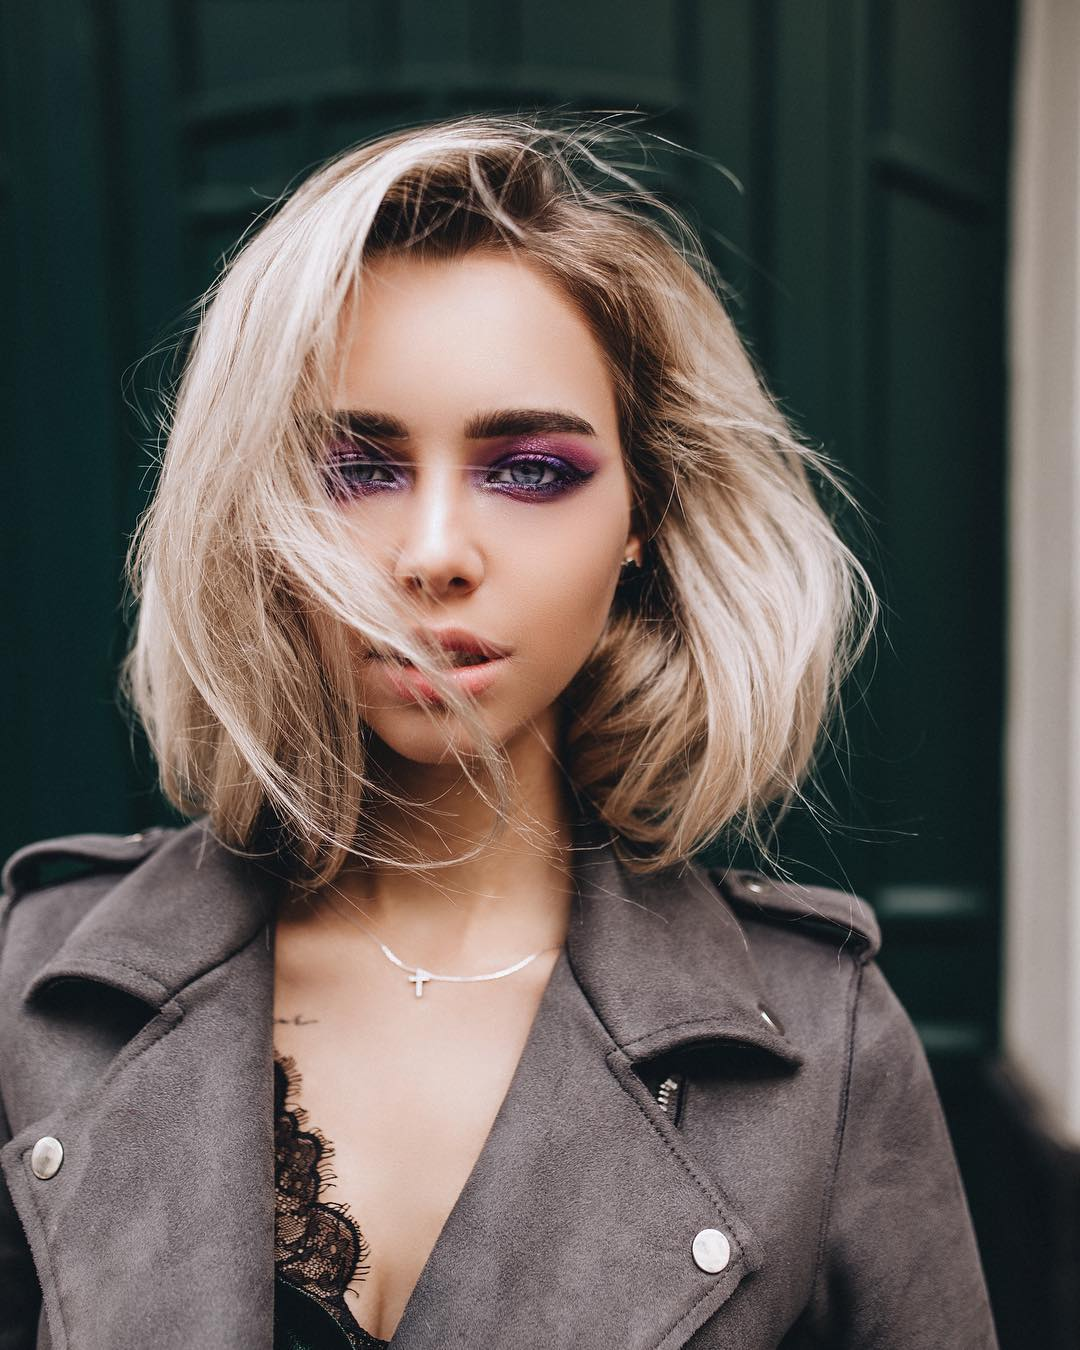bare: (290, 511, 625, 756)
